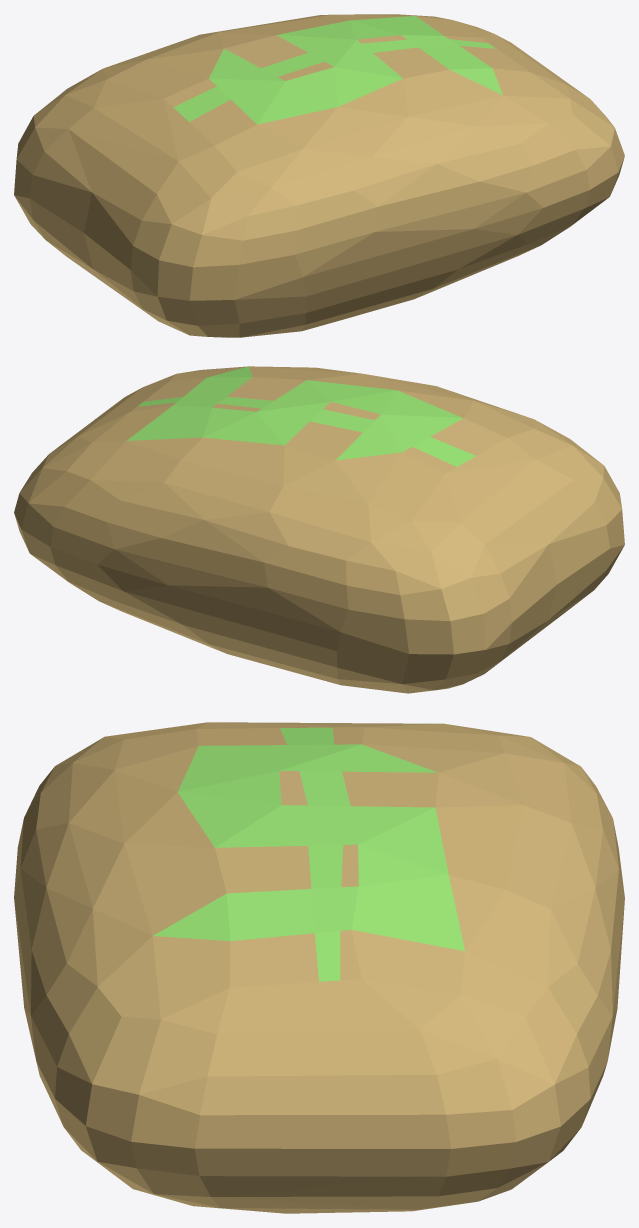
File: goldpouch.fbx
3 renders of one model, top to bottom at view 1: azimuth 30°, elevation 25°; view 2: azimuth 150°, elevation 25°; view 3: azimuth 270°, elevation 25°, orthographic. The views are drawn at different scales.
Parts seen in each view (by area): view 1: Bogata ziemia w worku; view 2: Bogata ziemia w worku; view 3: Bogata ziemia w worku.
Boxes of the visible parts, left/top/right/bottom form: Bogata ziemia w worku: left=14, top=14, right=624, bottom=337; Bogata ziemia w worku: left=14, top=366, right=624, bottom=693; Bogata ziemia w worku: left=14, top=722, right=624, bottom=1213.
Bounding box in the file's own units: 204 × 89.79 × 148.
